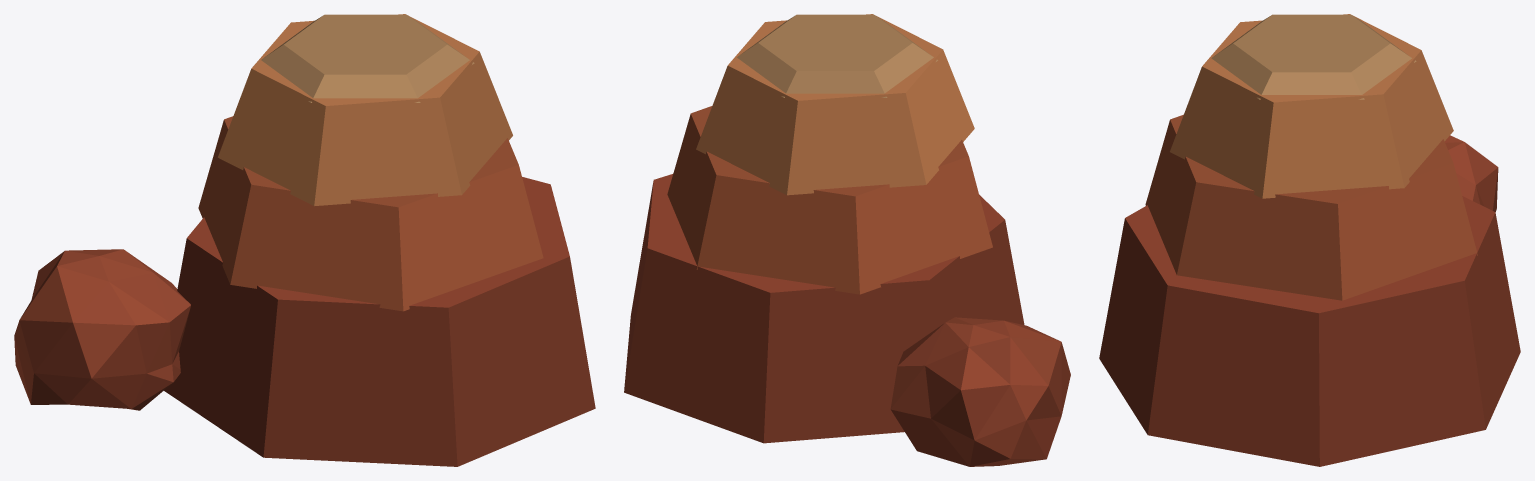
The model's file is Scatter_RockRed.fbx.
The picture shows the model from 3 angles, left to right: view 1: azimuth 30°, elevation 25°; view 2: azimuth 150°, elevation 25°; view 3: azimuth 270°, elevation 25°; orthographic projection. The views are drawn at different scales.
Parts seen in each view (by area): view 1: RockRed; view 2: RockRed; view 3: RockRed.
Boxes of the visible parts, x1,y1,x2,y2 form: RockRed: (14,14,595,466); RockRed: (624,14,1070,466); RockRed: (1099,14,1520,466).
Bounding box in the file's own units: 8.44 × 5.45 × 6.43.
